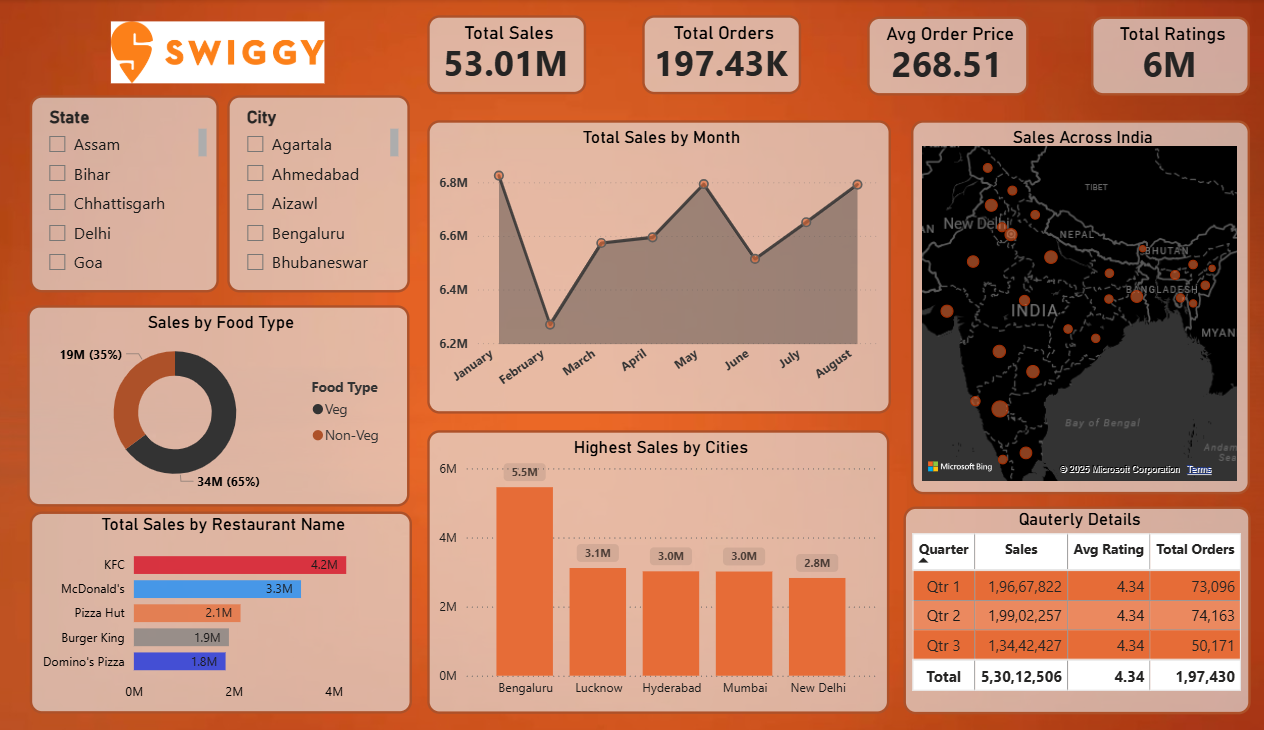

The dashboard page shown, as its layout file describes it:
{"tool":"powerbi","page":{"name":"Dashboard","canvas":[1280,720],"ordinal":0},"visuals":[{"type":"map","title":"Sales Across India","fields":{"Size":["Sum(Swiggy Data.Price (INR))"],"Category":["Swiggy Data.State"]},"box":[932.5,119,332.5,366.9],"z":0},{"type":"donutChart","title":"Sales by Food Type","fields":{"Category":["Swiggy Data.Food Type"],"Y":["Sum(Swiggy Data.Price (INR))"]},"box":[65,300.6,375.5,197.5],"z":1000},{"type":"stackedAreaChart","fields":{"Category":["Swiggy Data.Order Date.Variation.Date Hierarchy.Month"],"Y":["Sum(Swiggy Data.Price (INR))"]},"box":[457.7,119,455.2,288.3],"z":2000},{"type":"columnChart","title":"Highest Sales by Cities","fields":{"Category":["Swiggy Data.City"],"Y":["Sum(Swiggy Data.Price (INR))"]},"box":[457.7,423.3,454,278.5],"z":3000},{"type":"tableEx","title":"Qauterly Details","fields":{"Values":["Swiggy Data.Order Date.Variation.Date Hierarchy.Quarter","Sum(Swiggy Data.Price (INR))","Avg(Swiggy Data.Rating)","Swiggy Data.Dish Name"]},"box":[925.2,498.2,341.1,203.7],"z":4000},{"type":"clusteredBarChart","fields":{"Category":["Swiggy Data.Restaurant Name"],"Y":["Sum(Swiggy Data.Price (INR))"]},"box":[67.5,503.1,375.5,198.8],"z":5000},{"type":"card","title":"Total Sales","fields":{"Values":["Sum(Swiggy Data.Price (INR))"]},"box":[457.7,16,155.8,77.3],"z":6000},{"type":"card","title":"Avg Order Price","fields":{"Values":["Avg(Swiggy Data.Price (INR))"]},"box":[889.6,17.2,158.3,77.3],"z":7000},{"type":"card","title":"Total Orders","fields":{"Values":["CountNonNull(Swiggy Data.Dish Name)"]},"box":[668.7,16,155.8,77.3],"z":8000},{"type":"card","title":"Total Ratings","fields":{"Values":["Sum(Swiggy Data.Rating Count)"]},"box":[1109.2,17.2,155.8,77.3],"z":9000},{"type":"slicer","fields":{"Values":["Swiggy Data.City"]},"box":[261.4,94.5,179.1,193.9],"z":10000},{"type":"slicer","fields":{"Values":["Swiggy Data.State"]},"box":[67.5,94.5,185.3,193.9],"z":12000},{"type":"image","box":[142.3,17.2,219.6,71.2],"z":12001}]}

Visuals, with their boxes in screenshot pixels (x1, y1, x2, y2), scaled from the page's 1280x720 canvas onto the 1264x730 screenshot:
"Sales Across India" map: bbox(921, 121, 1249, 493)
"Sales by Food Type" donutChart: bbox(64, 305, 435, 505)
stackedAreaChart - Swiggy Data.Order Date.Variation.Date Hierarchy.Month x Sum(Swiggy Data.Price (INR)): bbox(452, 121, 901, 413)
"Highest Sales by Cities" columnChart: bbox(452, 429, 900, 712)
"Qauterly Details" tableEx: bbox(914, 505, 1250, 712)
clusteredBarChart - Swiggy Data.Restaurant Name x Sum(Swiggy Data.Price (INR)): bbox(67, 510, 437, 712)
"Total Sales" card: bbox(452, 16, 606, 95)
"Avg Order Price" card: bbox(878, 17, 1035, 96)
"Total Orders" card: bbox(660, 16, 814, 95)
"Total Ratings" card: bbox(1095, 17, 1249, 96)
slicer - Swiggy Data.City: bbox(258, 96, 435, 292)
slicer - Swiggy Data.State: bbox(67, 96, 250, 292)
image: bbox(141, 17, 357, 90)
